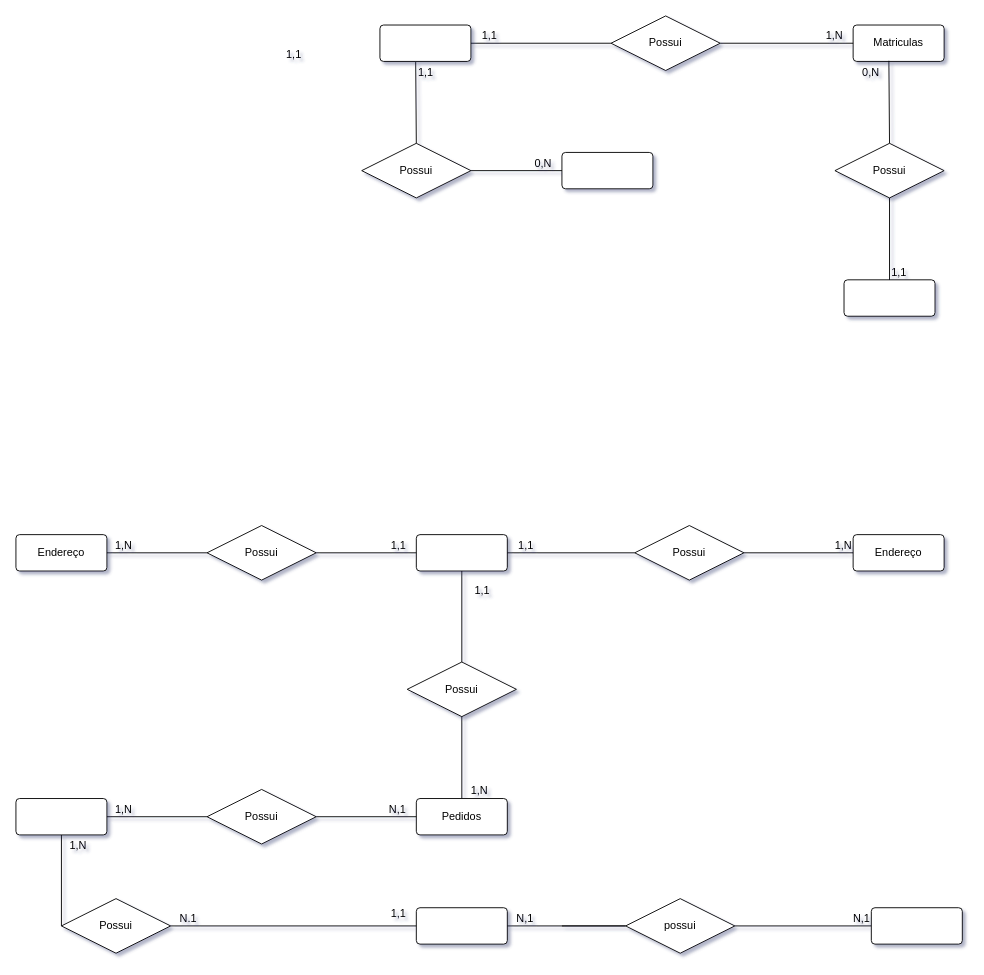
This 984x975 diagram has some shape labels left out. The shapes that lost their labels are listed below. From the top down, each one's centre as x and y in pixels, then its label:
At point (425, 42): "Alunos".
At point (607, 170): "Fiaps".
At point (889, 297): "Cursos".
At point (461, 552): "Cliente".
At point (61, 816): "Itens_pedidos".
At point (461, 925): "Produtos".
At point (916, 925): "Categoria".
